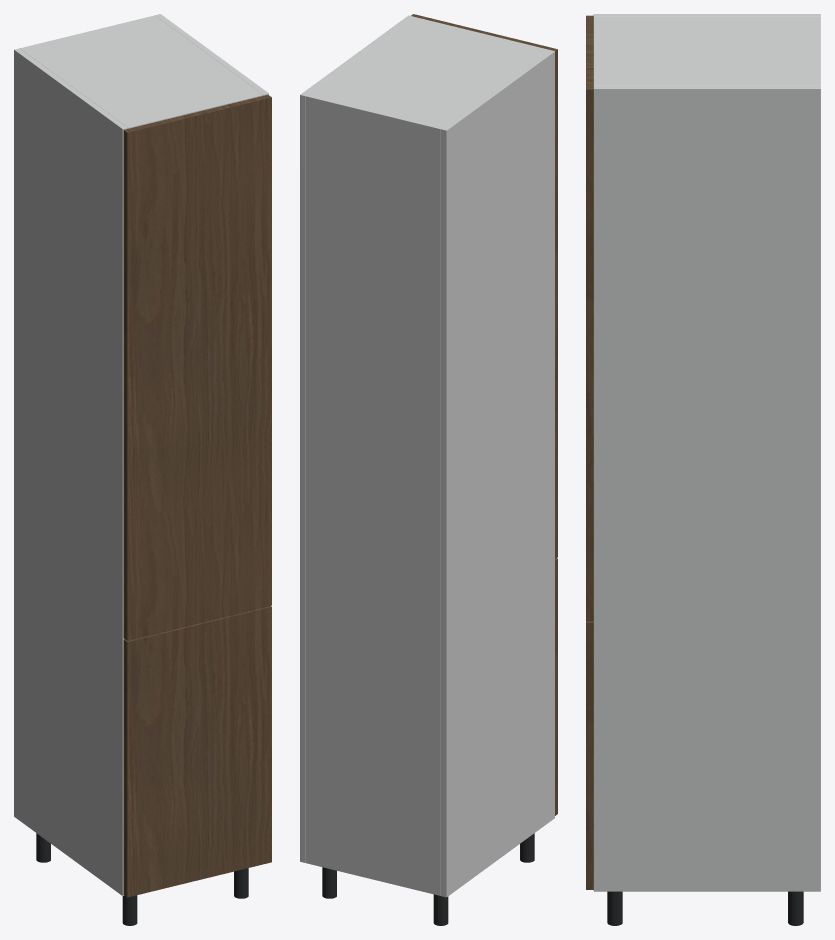
The model's file is oppein-pb-mso-pc1890.glb.
3 renders of one model, left to right at view 1: azimuth 30°, elevation 25°; view 2: azimuth 150°, elevation 25°; view 3: azimuth 270°, elevation 25°, orthographic. The views are drawn at different scales.
Visible parts, largest first — view 1: Cabinet side, Upper pantry door, Lower pantry door, Cabinet top, Cabinet side.001; view 2: Cabinet back, Cabinet side, Cabinet top, Cabinet side.001, Upper pantry door, Lower pantry door; view 3: Cabinet side.001, Cabinet top, Upper pantry door, Lower pantry door, Cabinet side, Adjustable foot.002, Adjustable foot.003.
Boxes of the visible parts, x1=… form: Cabinet side: x1=14, y1=48, x2=128, y2=895; Upper pantry door: x1=123, y1=95, x2=271, y2=640; Lower pantry door: x1=123, y1=606, x2=271, y2=897; Cabinet top: x1=22, y1=17, x2=263, y2=128; Cabinet side.001: x1=155, y1=14, x2=268, y2=95; Cabinet back: x1=306, y1=94, x2=442, y2=895; Cabinet side: x1=441, y1=50, x2=554, y2=897; Cabinet top: x1=306, y1=17, x2=548, y2=134; Cabinet side.001: x1=300, y1=15, x2=413, y2=862; Upper pantry door: x1=411, y1=14, x2=557, y2=559; Lower pantry door: x1=555, y1=558, x2=557, y2=815; Cabinet side.001: x1=593, y1=86, x2=820, y2=891; Cabinet top: x1=593, y1=17, x2=816, y2=85; Upper pantry door: x1=586, y1=15, x2=593, y2=621; Lower pantry door: x1=586, y1=621, x2=593, y2=889; Cabinet side: x1=593, y1=14, x2=820, y2=16; Adjustable foot.002: x1=788, y1=891, x2=803, y2=925; Adjustable foot.003: x1=607, y1=891, x2=622, y2=925.
Size of the model in its own units: 0.4572 by 2.4 by 0.6064.
3 materials, 1 textured.
